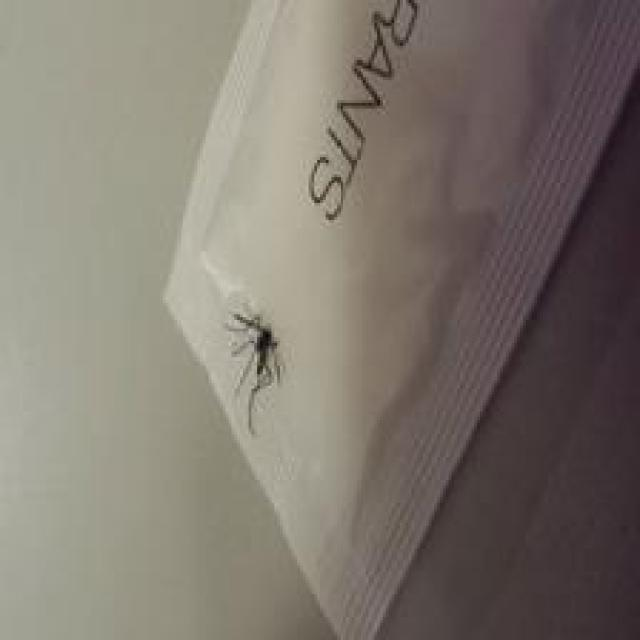Aedes albopictus: (224, 310, 284, 436)
